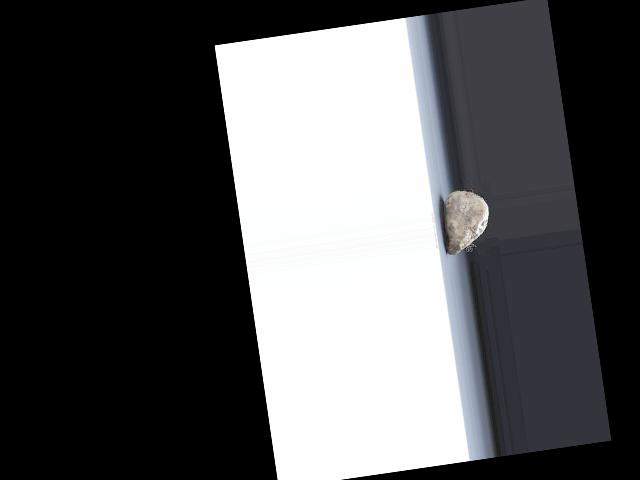beet: (438, 186, 493, 254)
